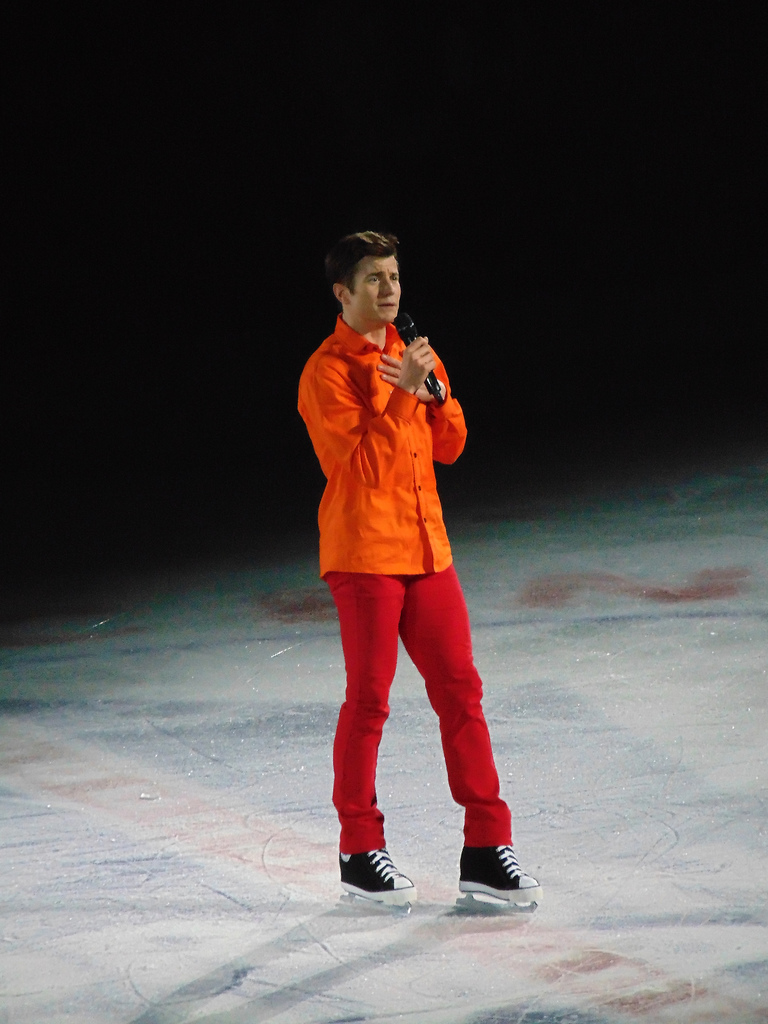Person: (297, 230, 543, 914)
